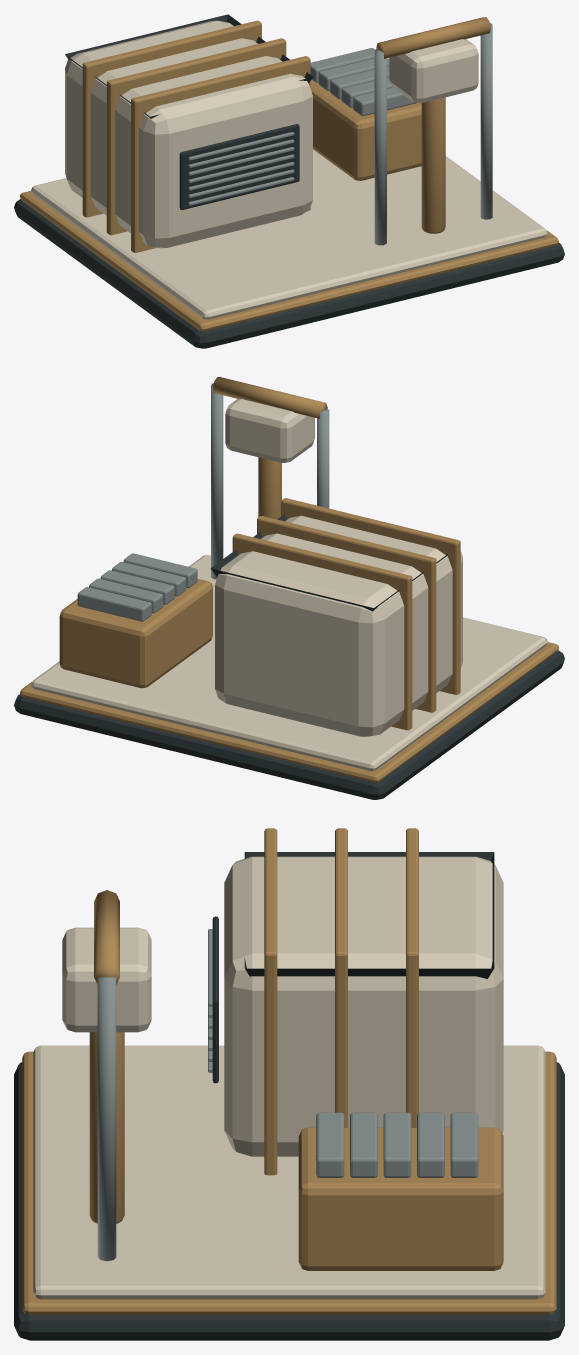
The model's file is mine-m02.glb.
The picture shows the model from 3 angles, top to bottom: view 1: azimuth 30°, elevation 25°; view 2: azimuth 150°, elevation 25°; view 3: azimuth 270°, elevation 25°; orthographic projection. The views are drawn at different scales.
Parts seen in each view (by area): view 1: H01 batch 02 / Ares S02 / ceramic pressure shell, H01 batch 01 / Ares S02 / brushed bronze, H01 batch 00 / Ares S02 / charcoal seals, H01 batch 03 / Ares S02 / titanium struts; view 2: H01 batch 02 / Ares S02 / ceramic pressure shell, H01 batch 01 / Ares S02 / brushed bronze, H01 batch 00 / Ares S02 / charcoal seals, H01 batch 03 / Ares S02 / titanium struts; view 3: H01 batch 02 / Ares S02 / ceramic pressure shell, H01 batch 01 / Ares S02 / brushed bronze, H01 batch 00 / Ares S02 / charcoal seals, H01 batch 03 / Ares S02 / titanium struts.
Boxes of the visible parts, x1,y1,x2,y2 form: H01 batch 02 / Ares S02 / ceramic pressure shell: (31, 20, 547, 319); H01 batch 01 / Ares S02 / brushed bronze: (20, 17, 558, 331); H01 batch 00 / Ares S02 / charcoal seals: (14, 14, 564, 348); H01 batch 03 / Ares S02 / titanium struts: (188, 23, 492, 245); H01 batch 02 / Ares S02 / ceramic pressure shell: (31, 399, 547, 770); H01 batch 01 / Ares S02 / brushed bronze: (20, 377, 558, 782); H01 batch 00 / Ares S02 / charcoal seals: (14, 514, 564, 799); H01 batch 03 / Ares S02 / titanium struts: (77, 383, 329, 621); H01 batch 02 / Ares S02 / ceramic pressure shell: (33, 856, 545, 1299); H01 batch 01 / Ares S02 / brushed bronze: (22, 828, 556, 1314); H01 batch 00 / Ares S02 / charcoal seals: (14, 852, 564, 1340); H01 batch 03 / Ares S02 / titanium struts: (97, 929, 478, 1261).
Bounding box in the file's own units: 1.68 × 1.03 × 1.48.
